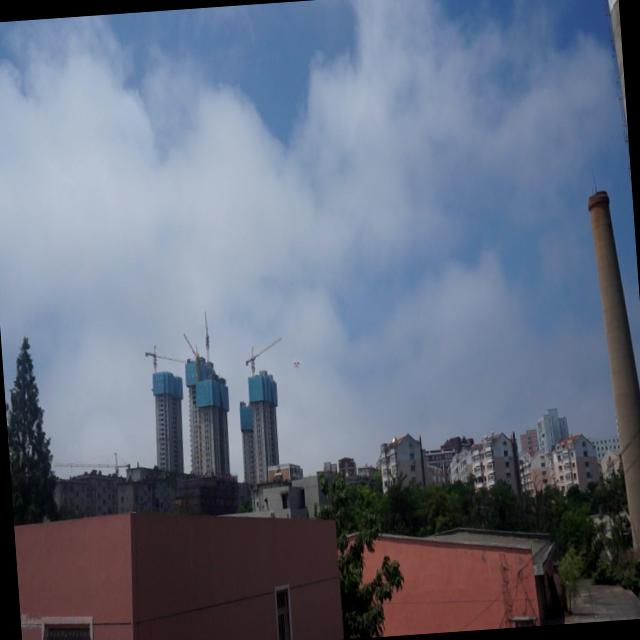drone: (292, 356, 302, 368)
